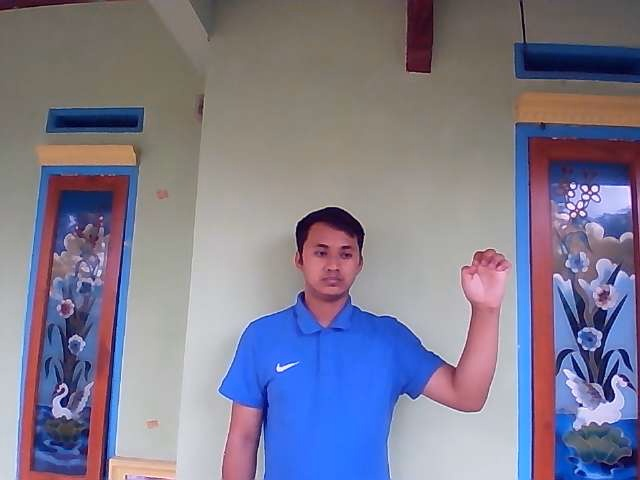E: (459, 244, 513, 306)
